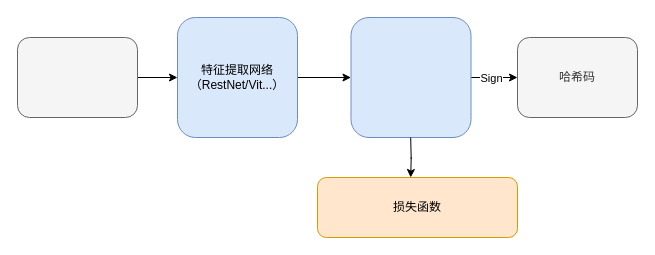
The diagram is 655 pixels wide and 255 high, and some of its shapes have lost their labels. Each missing label, with the box of its shape:
哈希层 （连续值）: (350, 16, 471, 138)
输入图像: (16, 36, 138, 118)
